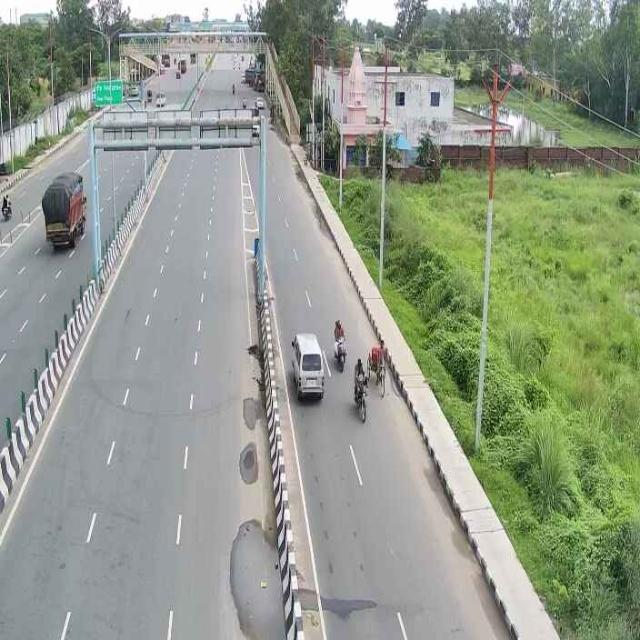car: (287, 327, 328, 404)
